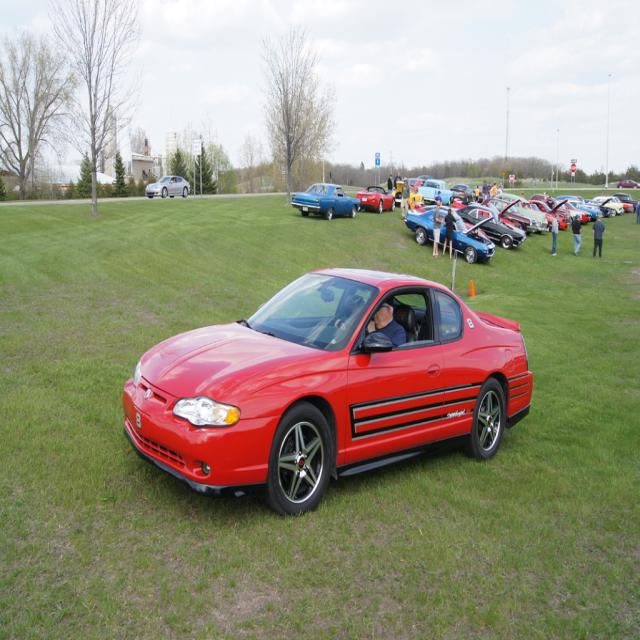car: (120, 264, 534, 521), (405, 200, 494, 268), (288, 178, 363, 219), (146, 172, 190, 198)
